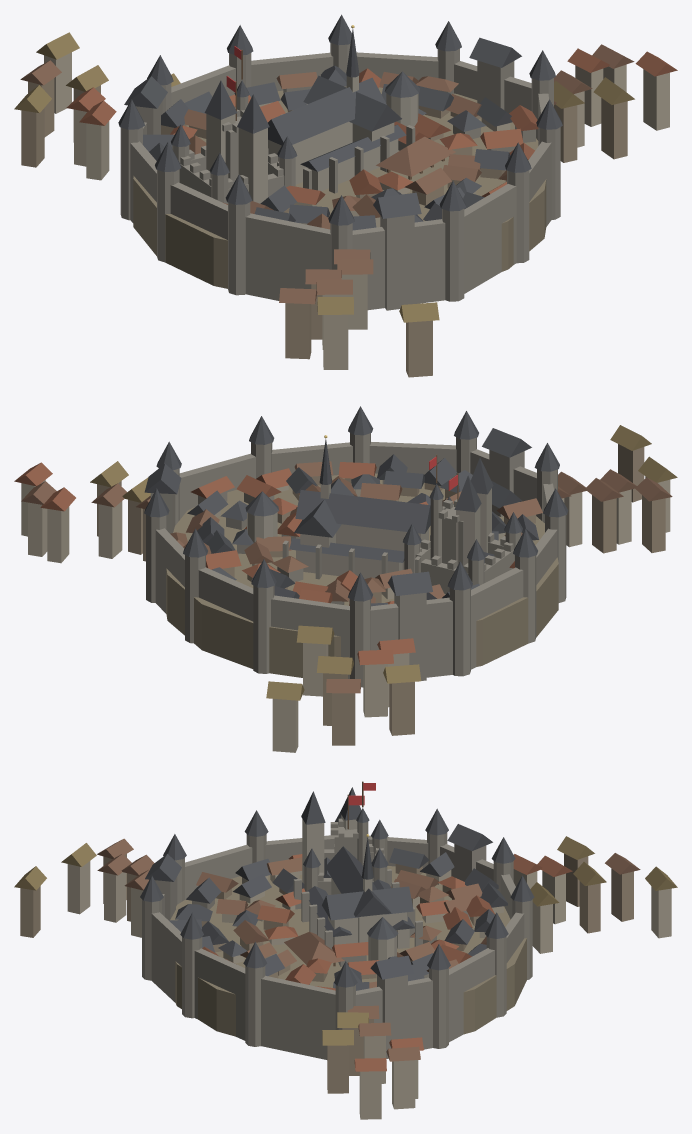
File: cite_a.glb
The picture shows the model from 3 angles, top to bottom: view 1: azimuth 30°, elevation 25°; view 2: azimuth 150°, elevation 25°; view 3: azimuth 270°, elevation 25°; orthographic projection. The views are drawn at different scales.
Visible parts, largest first — view 1: cite_a; view 2: cite_a; view 3: cite_a.
Part boxes in pixels (<box>): cite_a: <box>14,14,677,377</box>; cite_a: <box>14,406,677,752</box>; cite_a: <box>14,781,677,1119</box>.
Size of the model in its own units: 4.3 by 1.38 by 5.28.
